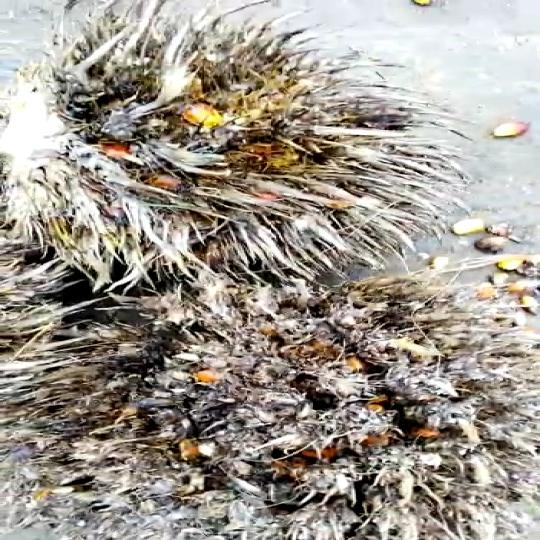terlalu masak: (0, 17, 472, 287), (34, 280, 522, 534)
